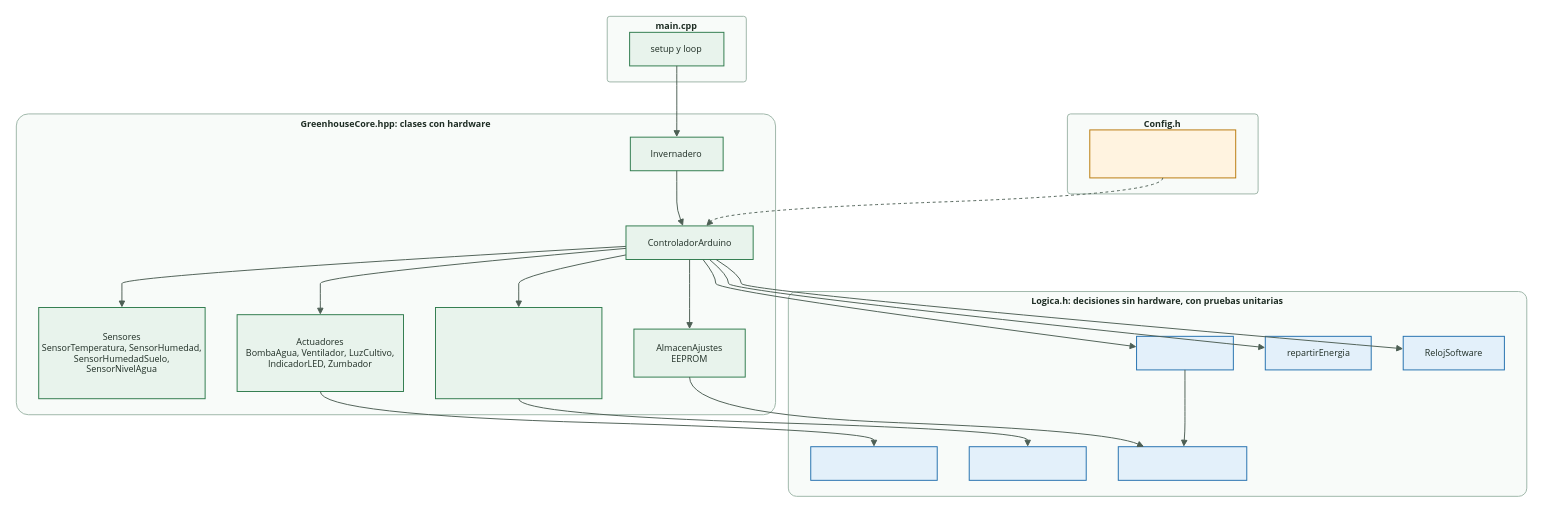
This 1543x512 diagram has some shape labels left out. Here are the shapes that lost their labels. From the top down, the centre of each, then its label:
At (x=1162, y=153): "Pines, partes instaladas y valores de fábrica".
At (x=518, y=353): "Interfaces PantallaLCD, BotonPulsador, comandos y telemetría serie".
At (x=1185, y=353): "ReglaControl".
At (x=873, y=463): "CicloTrabajoBomba".
At (x=1027, y=463): "parsearComando".
At (x=1182, y=463): "Ajustes y validación".
